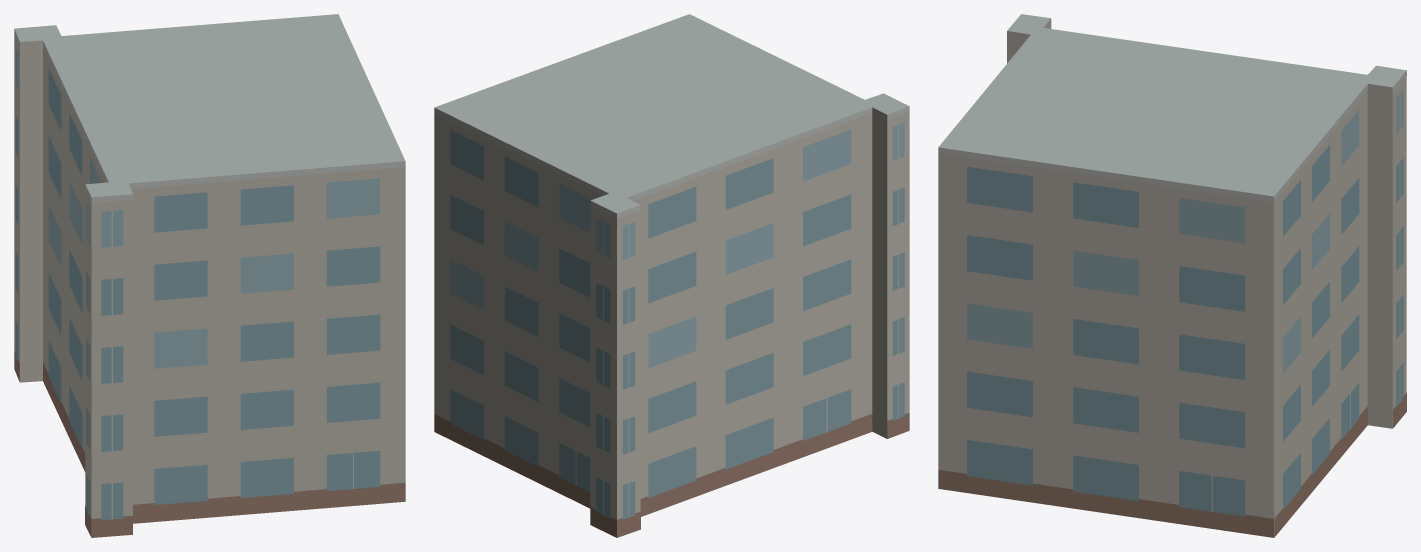
File: survey-upis-33036485.glb
3 views of the same model, side by side, from view 1: azimuth 30°, elevation 25°; view 2: azimuth 150°, elevation 25°; view 3: azimuth 270°, elevation 25° (orthographic). The views are drawn at different scales.
Visible parts, largest first — view 1: survey-upis-33036485.tmp; view 2: survey-upis-33036485.tmp; view 3: survey-upis-33036485.tmp.
Part boxes in pixels (x1=…): survey-upis-33036485.tmp: x1=14, y1=14, x2=405, y2=537; survey-upis-33036485.tmp: x1=434, y1=14, x2=909, y2=537; survey-upis-33036485.tmp: x1=938, y1=14, x2=1406, y2=537.
Bounding box in the file's own units: 16.4 × 14.3 × 17.79.
